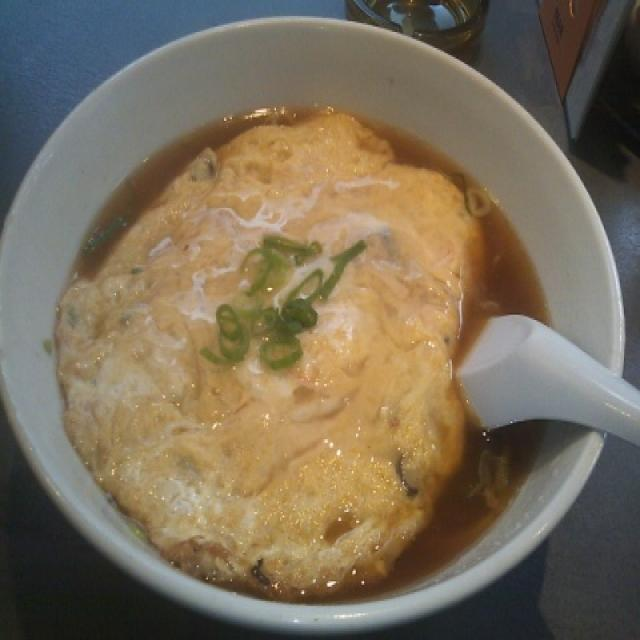面条主食: (4, 14, 631, 631)
